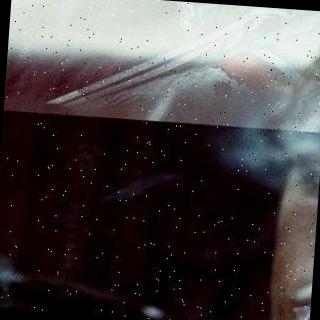smoke: (232, 17, 320, 319)
